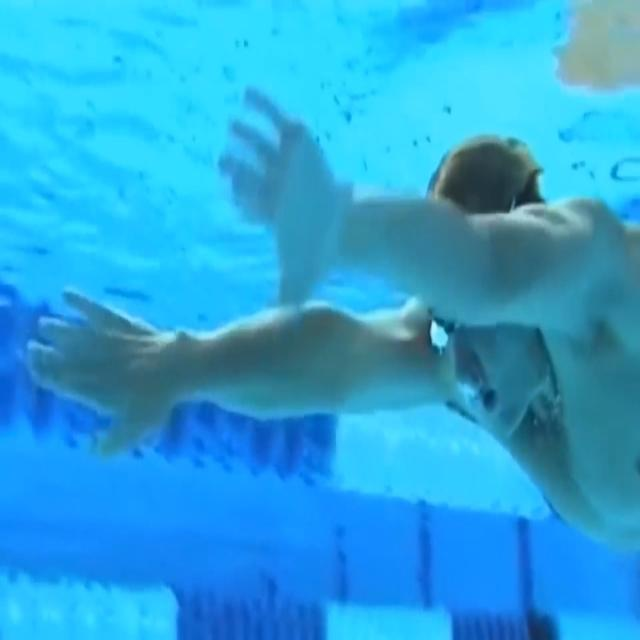Swimming: (25, 84, 640, 555)
